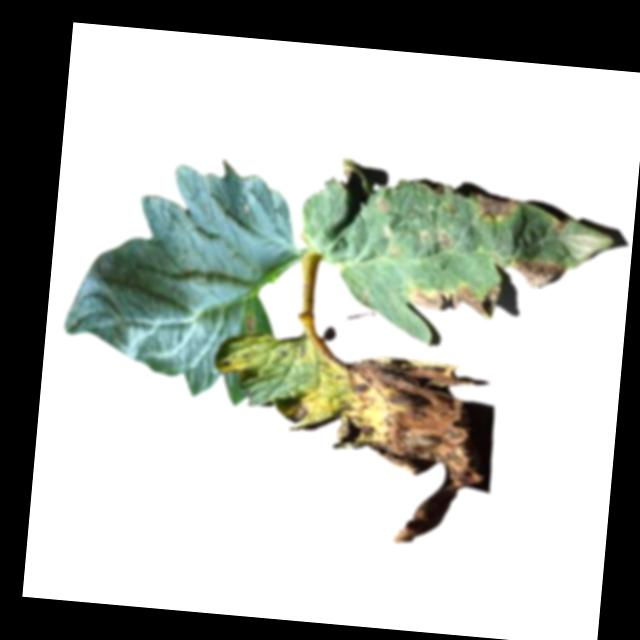Early_blight: (319, 351, 492, 550), (407, 277, 502, 323), (511, 255, 564, 289), (471, 189, 521, 222), (283, 397, 308, 426), (375, 192, 394, 214), (549, 218, 569, 238), (244, 309, 256, 331), (442, 234, 452, 249)
